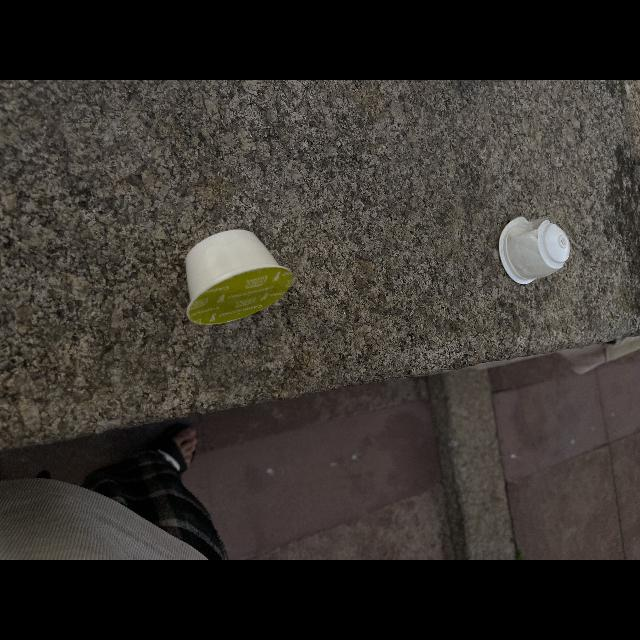damaged_capsule: (492, 208, 582, 294)
intact_capsule: (175, 216, 305, 332)
